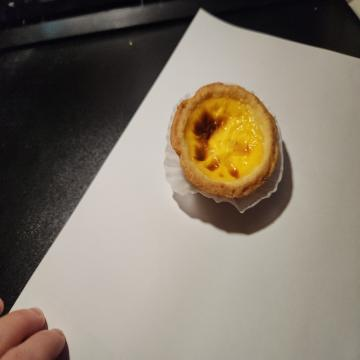EggTart: (170, 81, 278, 200)
